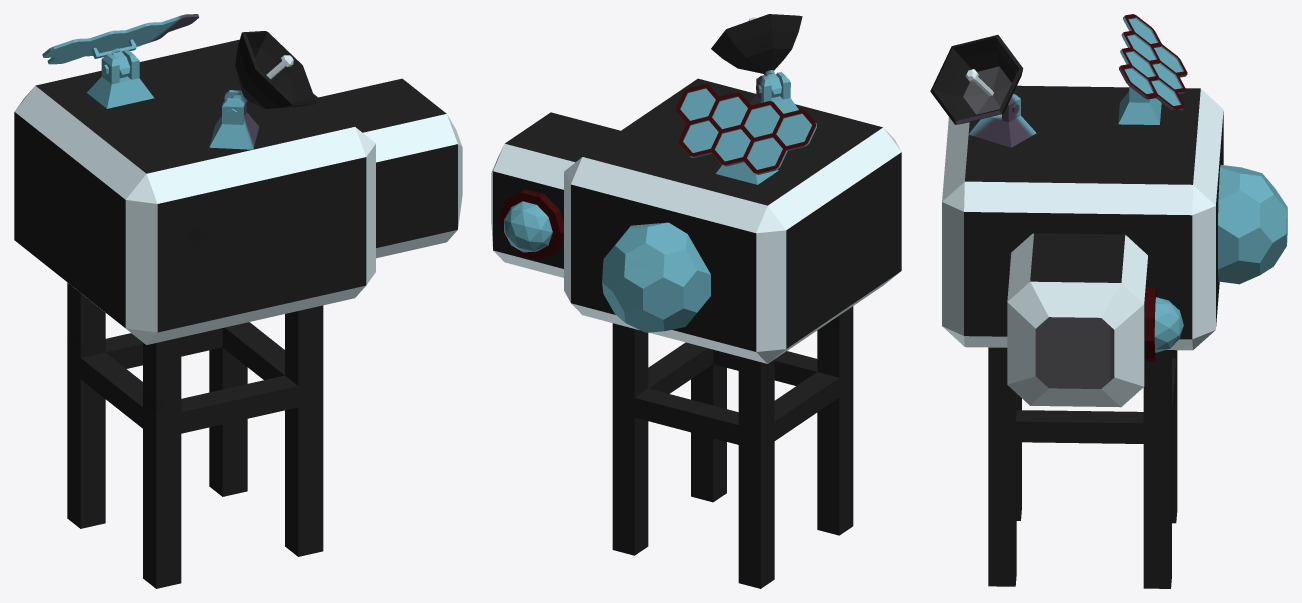
The model's file is EdificioCompuerta.fbx.
3 views of the same model, side by side, from view 1: azimuth 30°, elevation 25°; view 2: azimuth 150°, elevation 25°; view 3: azimuth 270°, elevation 25° (orthographic). The views are drawn at different scales.
Parts seen in each view (by area): view 1: BaseCompuerta; view 2: BaseCompuerta; view 3: BaseCompuerta.
Part boxes in pixels (x1,y1,x2,y2): BaseCompuerta: (14, 14, 462, 588); BaseCompuerta: (491, 14, 901, 588); BaseCompuerta: (930, 14, 1287, 588).
Bounding box in the file's own units: 580 × 796 × 500.
Materials: 1 (1 with a texture image).
